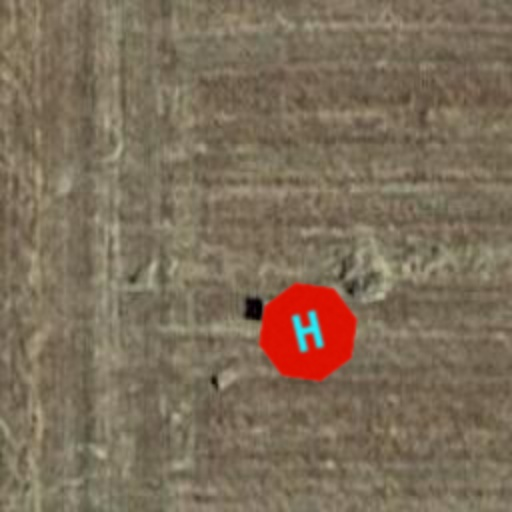octagon: (244, 268, 372, 396)
